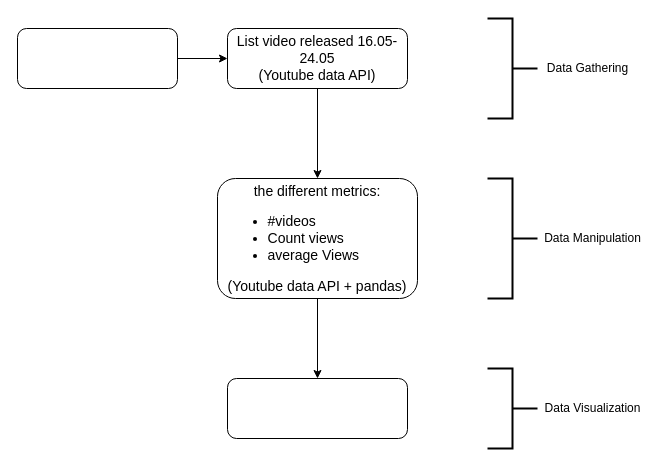
This 665x466 diagram has some shape labels left out. The centre of each missing label's shape, as x and y in pixels:
"Gather Pint of Science Youtube channels ID (manual)" belongs at [97,58].
"Plotting the data with Tableau" belongs at [317,408].
